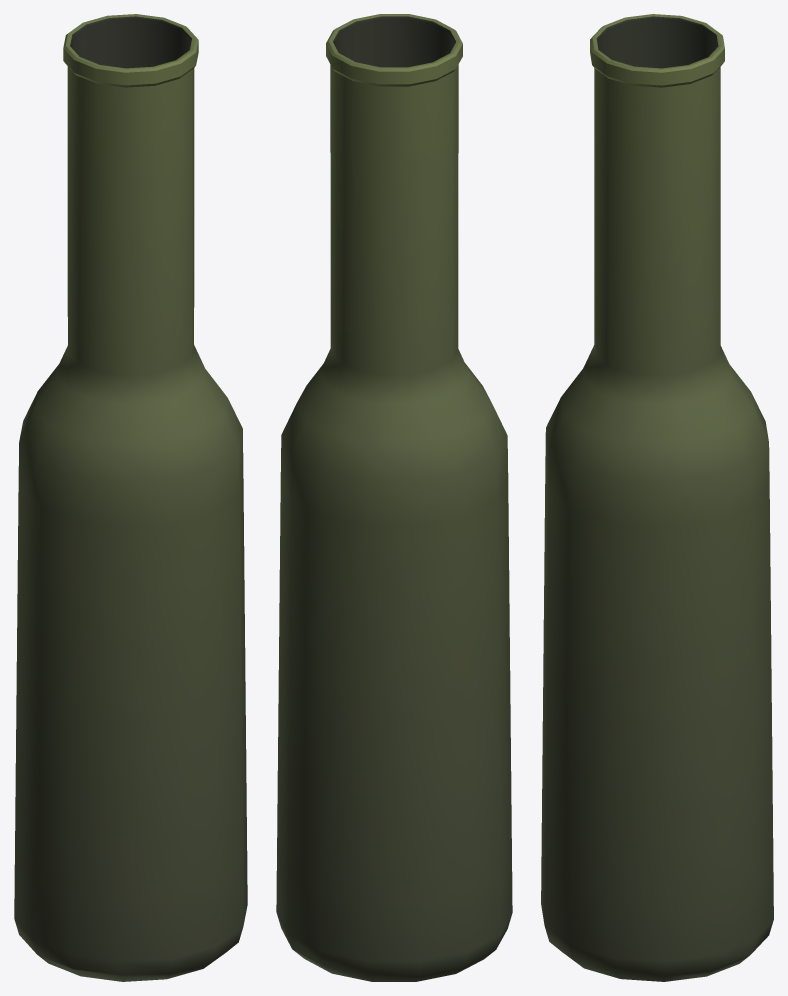
The model's file is Bottle.fbx.
3 renders of one model, left to right at view 1: azimuth 30°, elevation 25°; view 2: azimuth 150°, elevation 25°; view 3: azimuth 270°, elevation 25°, orthographic.
Parts seen in each view (by area): view 1: Bottle_001; view 2: Bottle_001; view 3: Bottle_001.
Part boxes in pixels (x1=…): Bottle_001: x1=14, y1=14, x2=247, y2=981; Bottle_001: x1=276, y1=14, x2=512, y2=981; Bottle_001: x1=541, y1=14, x2=773, y2=981.
Size of the model in its own units: 9.82 by 41.56 by 9.72.
